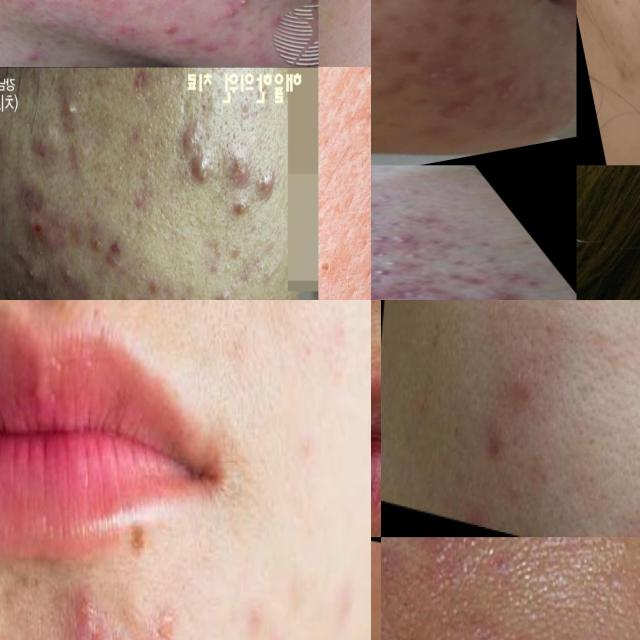acne_scars: (432, 6, 486, 33), (128, 68, 150, 110), (107, 235, 123, 265), (444, 0, 495, 6)
comedone: (318, 242, 353, 300), (499, 466, 525, 517), (371, 253, 407, 270), (371, 266, 407, 280), (371, 232, 396, 244)
cystic: (24, 212, 56, 254), (18, 268, 44, 294)
milium: (332, 0, 365, 22)
papule: (496, 350, 540, 417), (464, 289, 542, 300)
pustule: (409, 537, 462, 558), (59, 264, 82, 286), (62, 99, 80, 119), (236, 0, 262, 13)
sebo-crystan-conglo: (415, 63, 478, 98), (423, 94, 489, 127), (478, 70, 532, 110), (185, 155, 215, 189), (231, 158, 250, 183), (229, 197, 250, 216), (262, 174, 275, 200), (211, 287, 231, 300)
